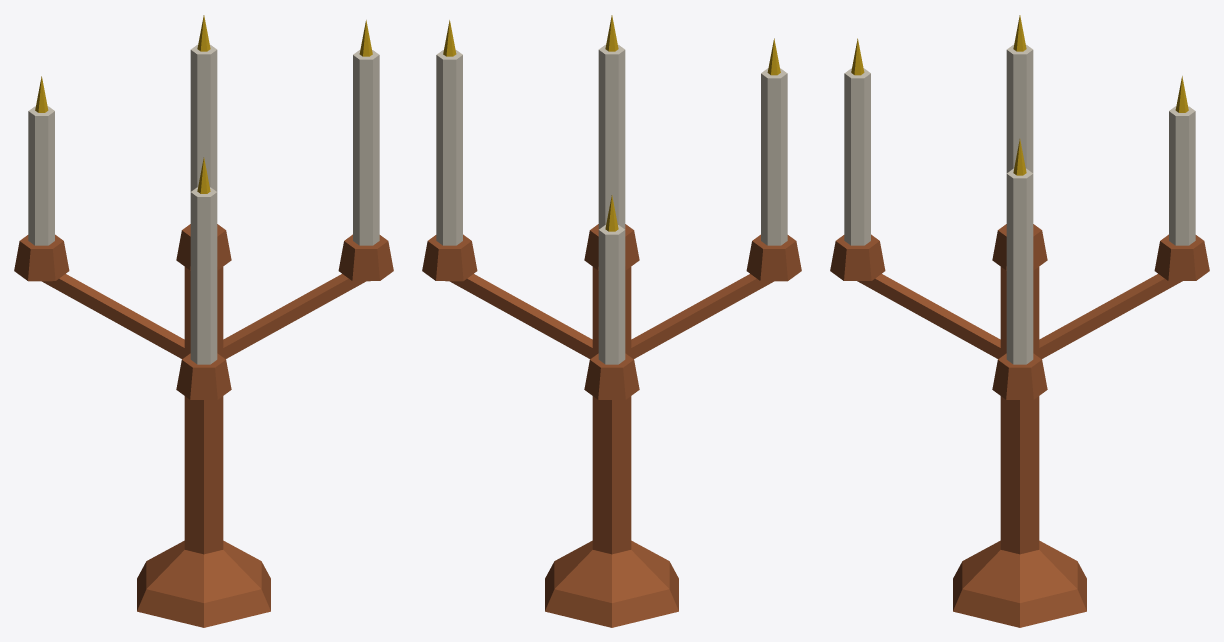
File: candle-holder-41.glb
3 views of the same model, side by side, from view 1: azimuth 30°, elevation 25°; view 2: azimuth 150°, elevation 25°; view 3: azimuth 270°, elevation 25° (orthographic).
Visible parts, largest first — view 1: candle_holder_41; view 2: candle_holder_41; view 3: candle_holder_41.
Part boxes in pixels (x1=…): candle_holder_41: x1=14, y1=15, x2=393, y2=627; candle_holder_41: x1=422, y1=15, x2=801, y2=627; candle_holder_41: x1=830, y1=15, x2=1209, y2=627.
Bounding box in the file's own units: 0.2971 × 0.5792 × 0.343.
